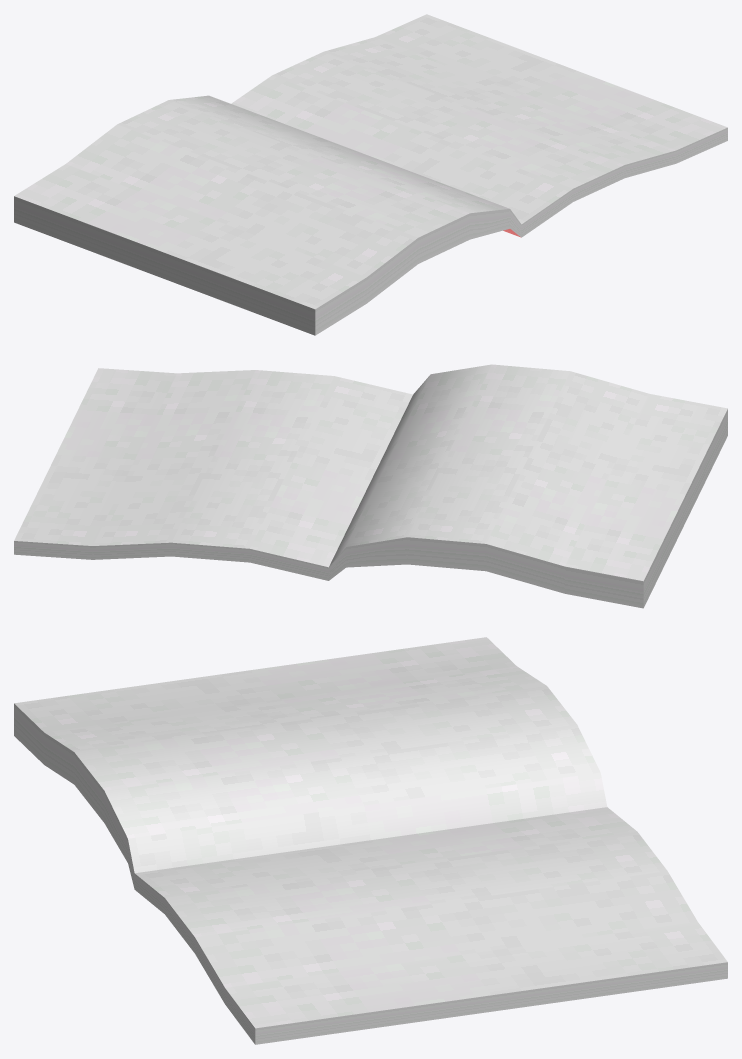
3 renders of one model, top to bottom at view 1: azimuth 30°, elevation 25°; view 2: azimuth 150°, elevation 25°; view 3: azimuth 270°, elevation 25°, orthographic. The views are drawn at different scales.
Visible parts, largest first — view 1: Joint_0_Object_1, Joint_0_Object_2; view 2: Joint_0_Object_1, Joint_0_Object_2; view 3: Joint_0_Object_1, Joint_0_Object_2.
Boxes of the visible parts, bbox=[...] form: Joint_0_Object_1: bbox=[14, 14, 727, 309]; Joint_0_Object_2: bbox=[14, 127, 727, 335]; Joint_0_Object_1: bbox=[14, 364, 727, 581]; Joint_0_Object_2: bbox=[14, 409, 727, 608]; Joint_0_Object_1: bbox=[14, 637, 727, 1028]; Joint_0_Object_2: bbox=[14, 703, 727, 1044].
Size of the model in its own units: 546 by 42.18 by 440.
